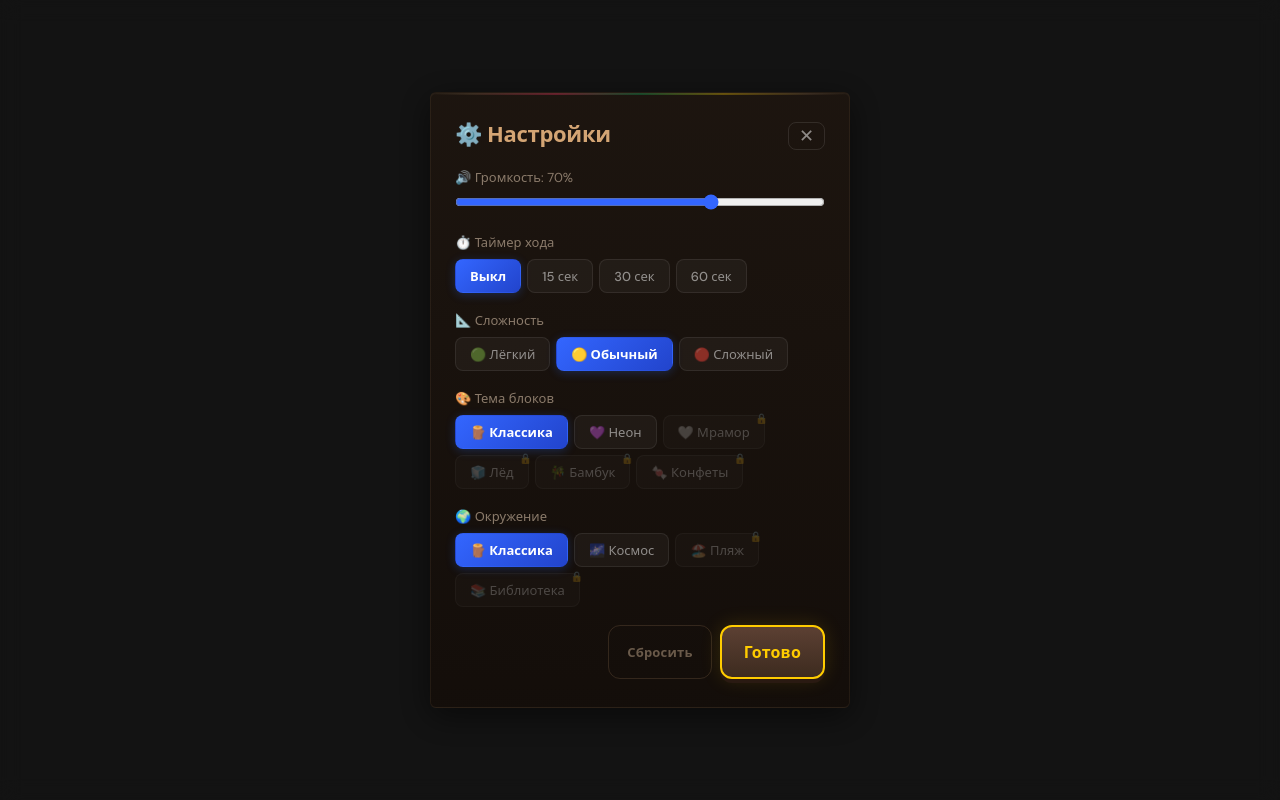
Test: SettingsPanel › reset › updates displayed volume after reset
Change volume first
Set the slider named "Громкость" to "30" at (569, 202), box [455, 194, 825, 210]
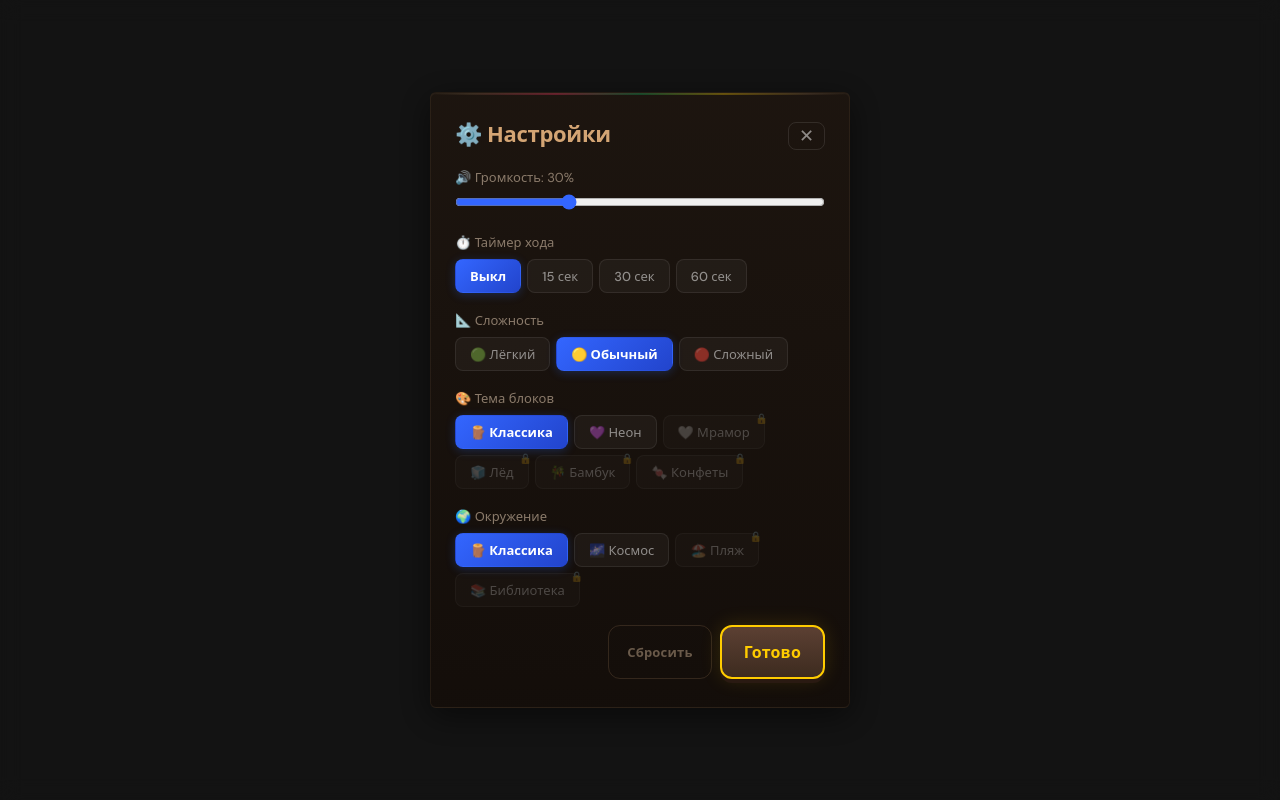
Click the button "Сбросить" at (660, 652), box [608, 625, 712, 679]
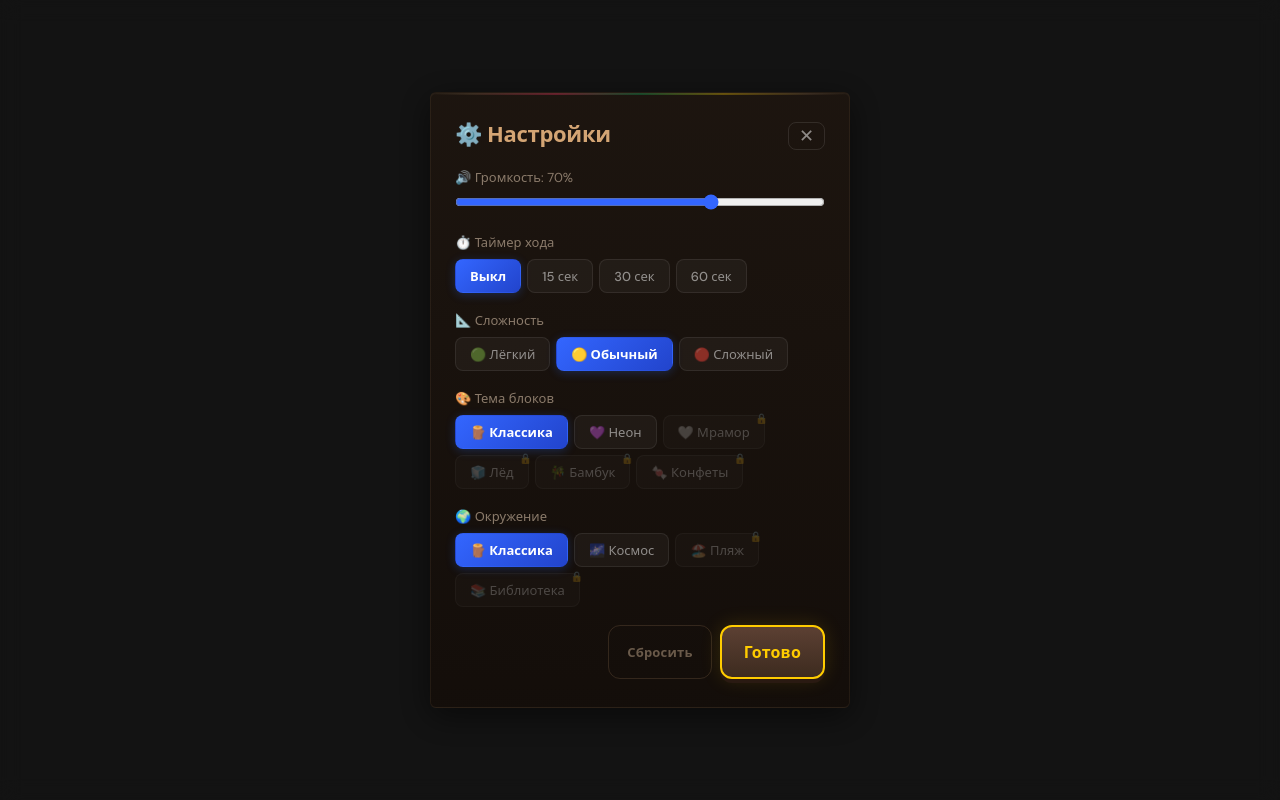
Now the text "🔊 Громкость: 70%" is shown, box [455, 169, 573, 186]
